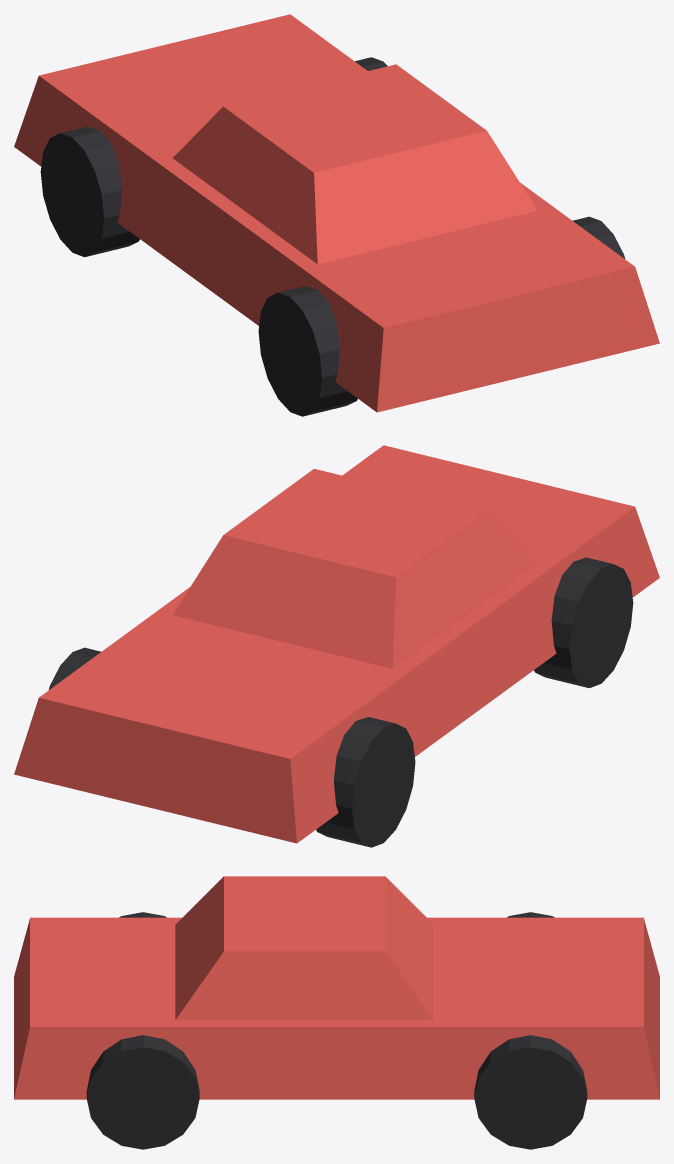
File: pipeline-probe.glb
3 renders of one model, top to bottom at view 1: azimuth 30°, elevation 25°; view 2: azimuth 150°, elevation 25°; view 3: azimuth 270°, elevation 25°, orthographic. The views are drawn at different scales.
Visible parts, largest first — view 1: probe_body, wheel_fl, wheel_rl, wheel_rr; view 2: probe_body, wheel_fl, wheel_rl, wheel_fr; view 3: probe_body, wheel_fr, wheel_rr.
Part boxes in pixels (x1=…): probe_body: x1=14, y1=14, x2=659, y2=412; wheel_fl: x1=40, y1=126, x2=139, y2=257; wheel_rl: x1=258, y1=286, x2=357, y2=416; wheel_rr: x1=573, y1=216, x2=625, y2=258; probe_body: x1=14, y1=445, x2=659, y2=843; wheel_fl: x1=316, y1=717, x2=415, y2=847; wheel_rl: x1=534, y1=557, x2=633, y2=688; wheel_fr: x1=48, y1=647, x2=100, y2=689; probe_body: x1=14, y1=876, x2=659, y2=1099; wheel_fr: x1=474, y1=1035, x2=587, y2=1149; wheel_rr: x1=86, y1=1035, x2=199, y2=1149.
Size of the model in its own units: 1.98 by 1.15 by 4.
